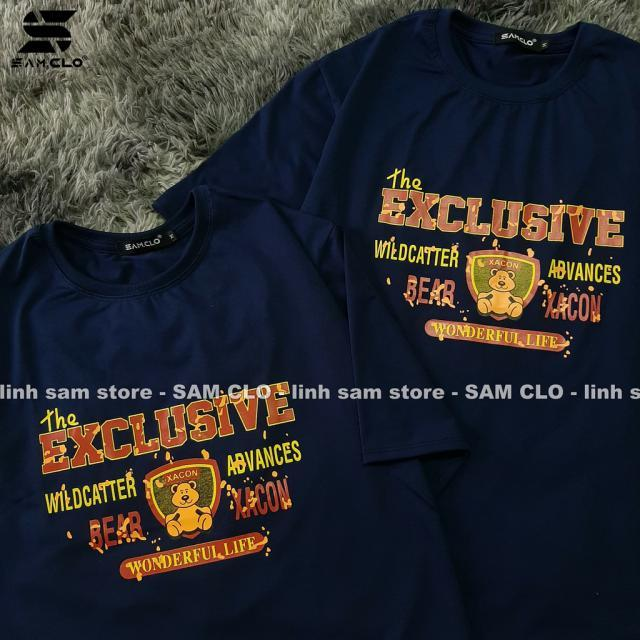Shirt: (146, 5, 640, 640), (0, 190, 470, 640)
